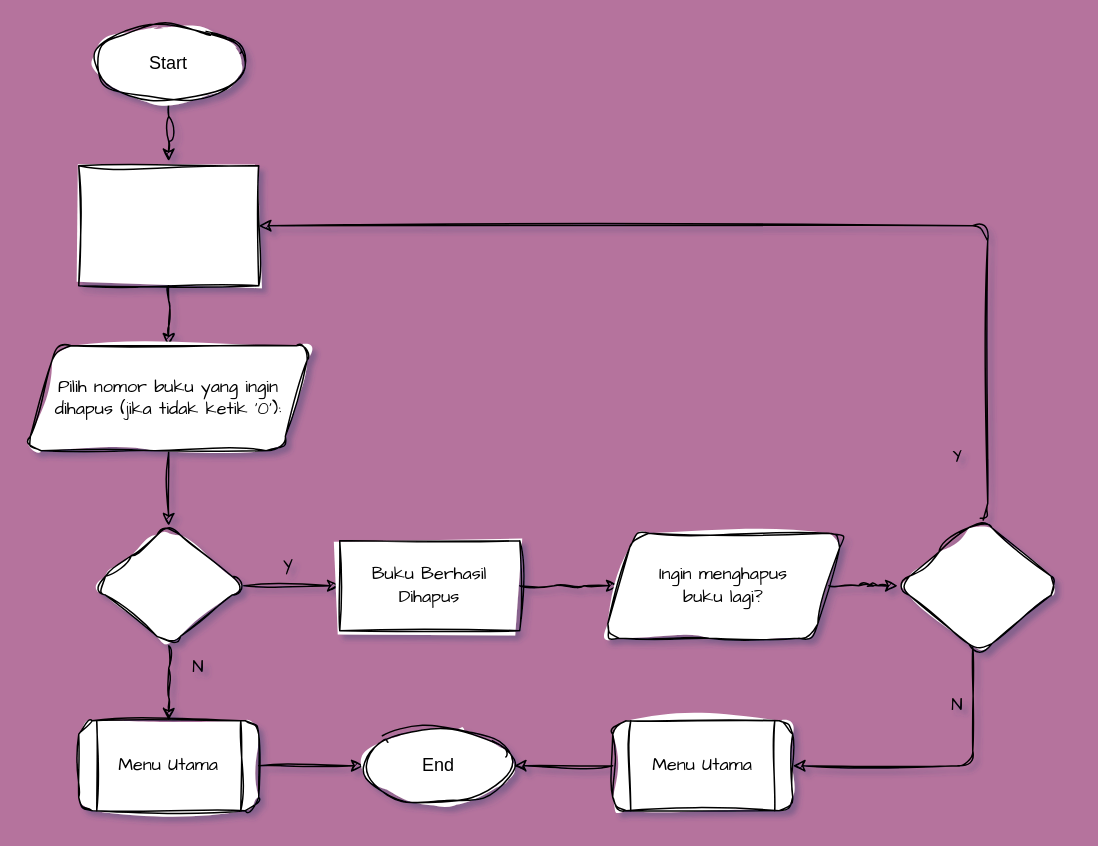
Some shapes in this 1098 by 846 pixel diagram are drawn without their labels. The shapes that lost their labels are listed below. From the top down, each one's box as (x1, y1, x2, y2) in pixels, then its label:
(77, 164, 259, 286): Hapus Buku: (buku yang sudah di tambah)
(92, 524, 244, 646): Hapus Buku?
(896, 517, 1063, 653): Hapus Buku Lagii?
